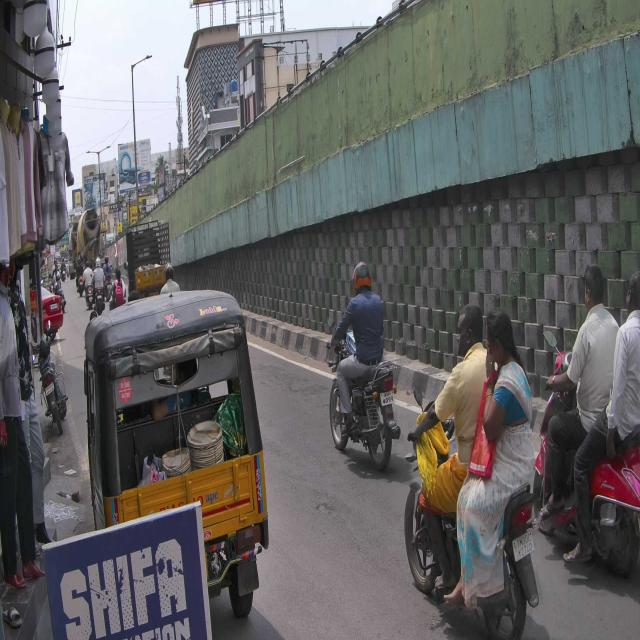double_rider: (404, 301, 538, 640), (540, 263, 640, 576)
single_rider: (324, 257, 402, 468)
